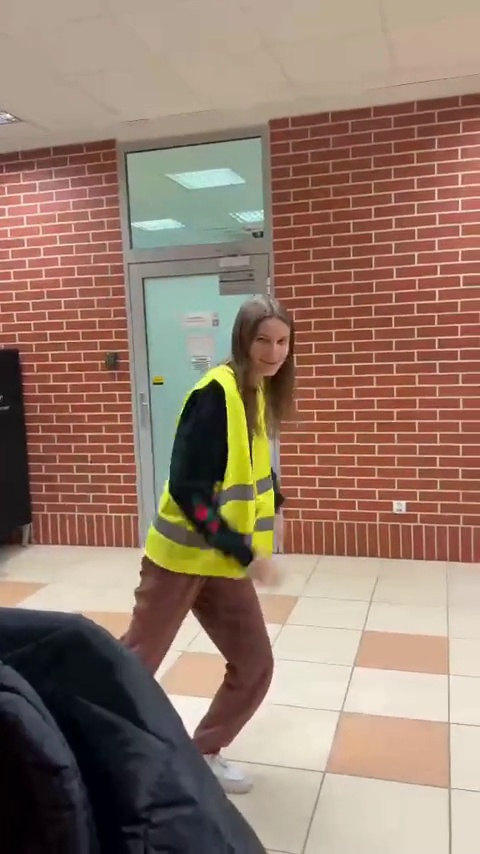vest: (139, 298, 313, 803)
